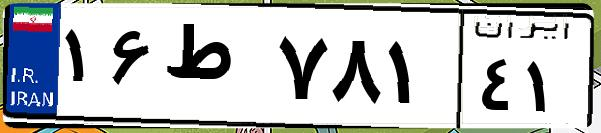1: (385, 28, 445, 110), (57, 26, 110, 100), (525, 38, 570, 115)
4: (475, 38, 525, 113)
6: (110, 28, 158, 98)
7: (270, 28, 330, 110)
8: (330, 28, 385, 110)
ط: (158, 20, 270, 120)
